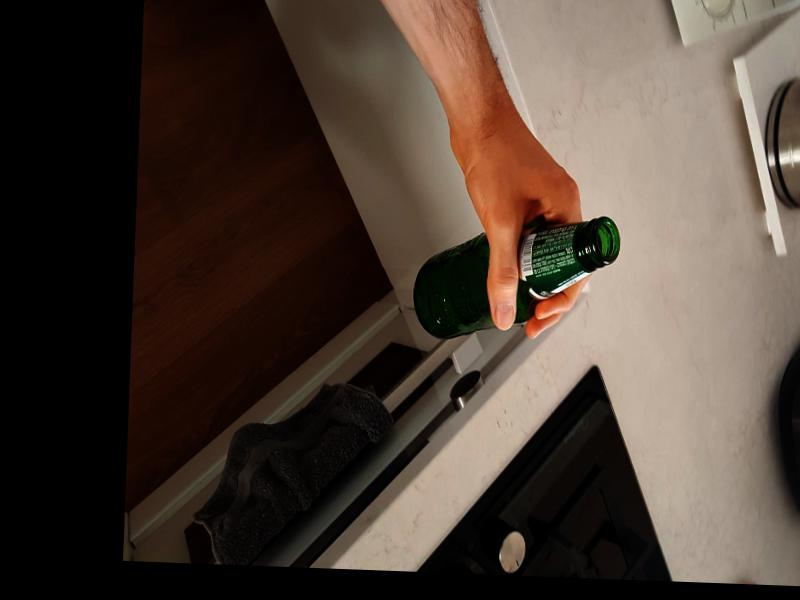Beer: (410, 209, 619, 345)
